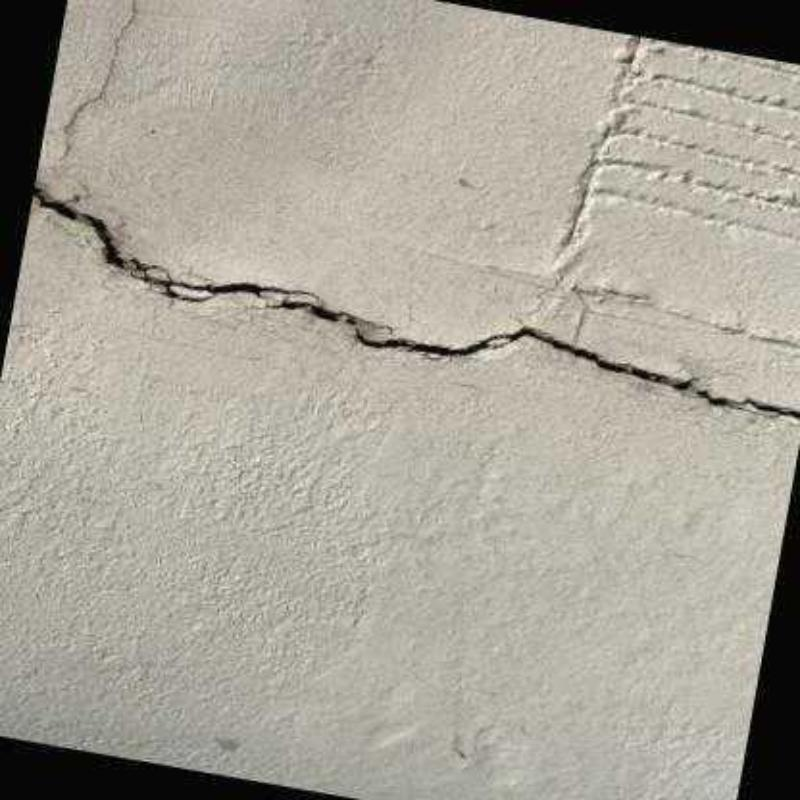pothole: (30, 183, 798, 420)
